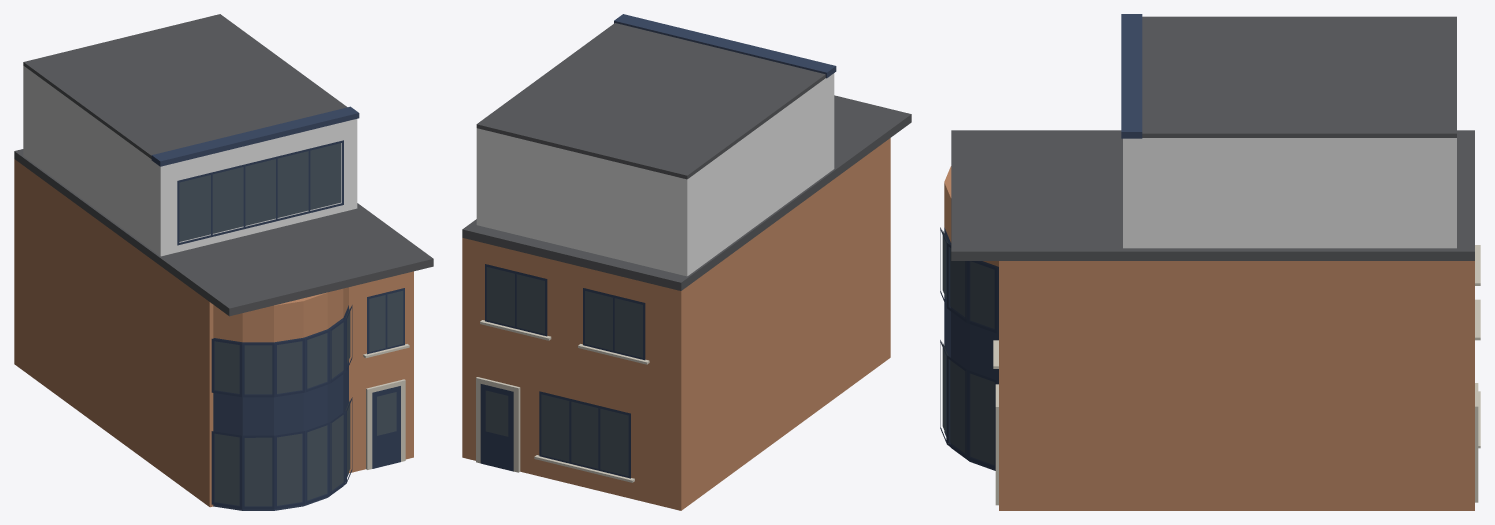
File: zo-vw-bay__navy__2__flat__long__solid.glb
3 renders of one model, left to right at view 1: azimuth 30°, elevation 25°; view 2: azimuth 150°, elevation 25°; view 3: azimuth 270°, elevation 25°, orthographic. The views are drawn at different scales.
Visible parts, largest first — view 1: zo-vw-bay__navy__2__flat__long__solid; view 2: zo-vw-bay__navy__2__flat__long__solid; view 3: zo-vw-bay__navy__2__flat__long__solid.
Part boxes in pixels (box(x1,y1,x2,y2)): zo-vw-bay__navy__2__flat__long__solid: box(14, 14, 433, 510); zo-vw-bay__navy__2__flat__long__solid: box(462, 14, 911, 510); zo-vw-bay__navy__2__flat__long__solid: box(940, 14, 1480, 510).
Bounding box in the file's own units: 6.02 × 8.7 × 11.34.
